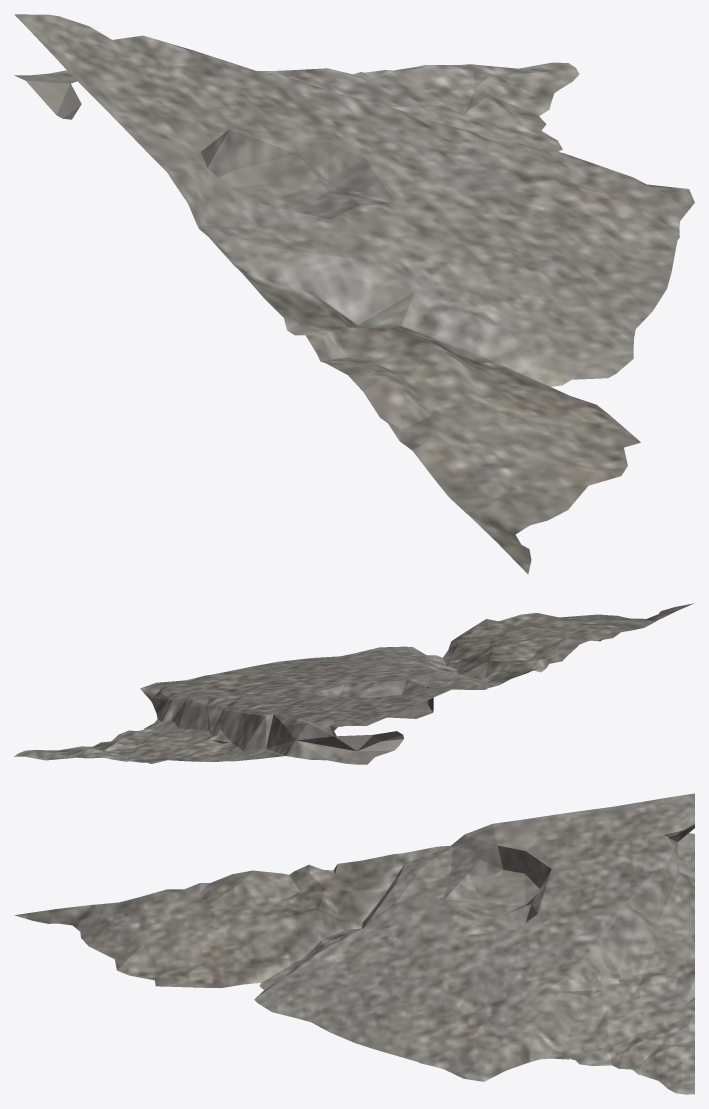
The picture shows the model from 3 angles, top to bottom: view 1: azimuth 30°, elevation 25°; view 2: azimuth 150°, elevation 25°; view 3: azimuth 270°, elevation 25°; orthographic projection. The views are drawn at different scales.
Size of the model in its own units: 0.7046 by 0.2231 by 1.13.
Materials: 1 (1 with a texture image).
